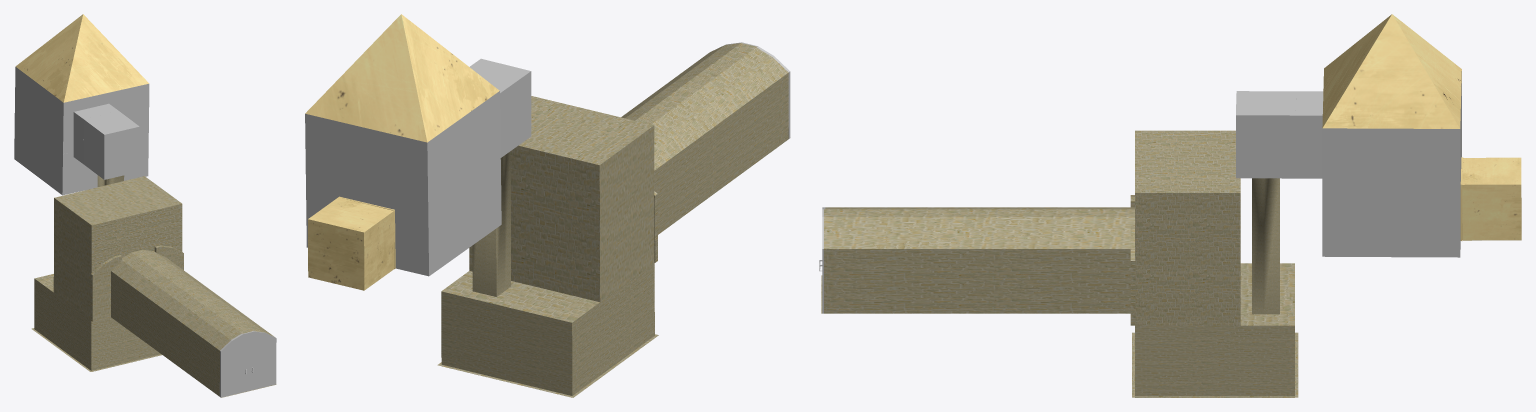
The model's file is PomieszczeniewSfinksu.fbx.
3 views of the same model, side by side, from view 1: azimuth 30°, elevation 25°; view 2: azimuth 150°, elevation 25°; view 3: azimuth 270°, elevation 25° (orthographic). The views are drawn at different scales.
Parts seen in each view (by area): view 1: Sufit1, ściana5, Cube.017, Cube.014, Cube.005, ściana8.001, ściana8.003, ściana8.005, ściana8.019, Cube.002, ściana8.023, Plane.004 (+9 smaller); view 2: ściana8.007, Cube.015, Cube.017, ściana8.021, ściana5, Sufit1, ściana8.003, Cube.001, ściana8.019, Cube.002, ściana8.005, Cube.021 (+8 smaller); view 3: ściana4, Cube.016, ściana8.008, Sufit1, ściana8.022, Cube.013, ściana8.005, Plane.003, ściana8.015, Cube.022, Cube.001, Cube.005 (+6 smaller).
Boxes of the visible parts, x1,y1,x2,y2 form: Sufit1: (111,249,274,350); ściana5: (111,271,219,396); Cube.017: (14,67,63,194); Cube.014: (62,84,149,195); Cube.005: (63,14,148,102); ściana8.001: (91,204,182,272); ściana8.003: (53,198,91,319); ściana8.005: (54,176,181,225); ściana8.019: (34,278,91,370); Cube.002: (15,14,82,102); ściana8.023: (91,317,161,371); Plane.004: (104,126,139,179); ściana8.007: (469,145,600,301); Cube.015: (305,113,428,276); Cube.017: (427,91,501,275); ściana8.021: (441,291,572,395); ściana5: (654,73,788,234); Sufit1: (621,43,788,170); ściana8.003: (599,125,654,301); Cube.001: (305,14,427,142); ściana8.019: (572,262,654,395); Cube.002: (401,14,499,142); ściana8.005: (519,96,653,165); Cube.021: (308,219,364,290); ściana4: (824,249,1130,313); Cube.016: (1322,128,1460,257); ściana8.008: (1135,193,1240,325); Sufit1: (824,207,1134,248); ściana8.022: (1135,325,1294,397); Cube.013: (1323,14,1459,128); ściana8.005: (1135,130,1240,192); Plane.003: (1236,115,1295,178); ściana8.015: (1252,178,1279,314); Cube.022: (1462,184,1521,240); Cube.001: (1392,14,1461,128); Cube.005: (1322,14,1391,127).
Size of the model in its own units: 9.67 by 19.57 by 32.83.
